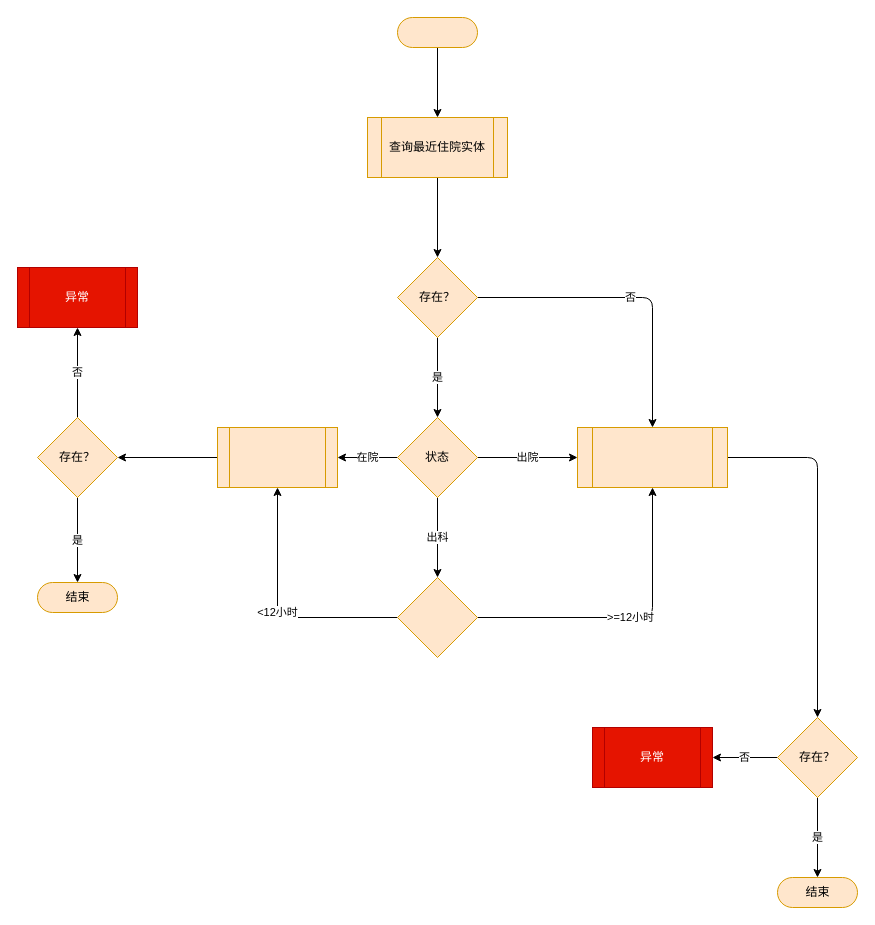
This 875x925 diagram has some shape labels left out. Here are the shapes that lost their labels. From the top down, the box of each, then its label:
(396, 16, 478, 48): 开始
(216, 426, 338, 488): 查询关联住院证
(576, 426, 728, 488): 查询最近有效住院证
(396, 576, 478, 658): 时长
